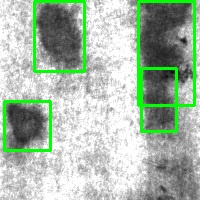patches: (138, 1, 194, 105), (34, 1, 84, 71), (4, 101, 50, 150), (141, 68, 176, 131)
